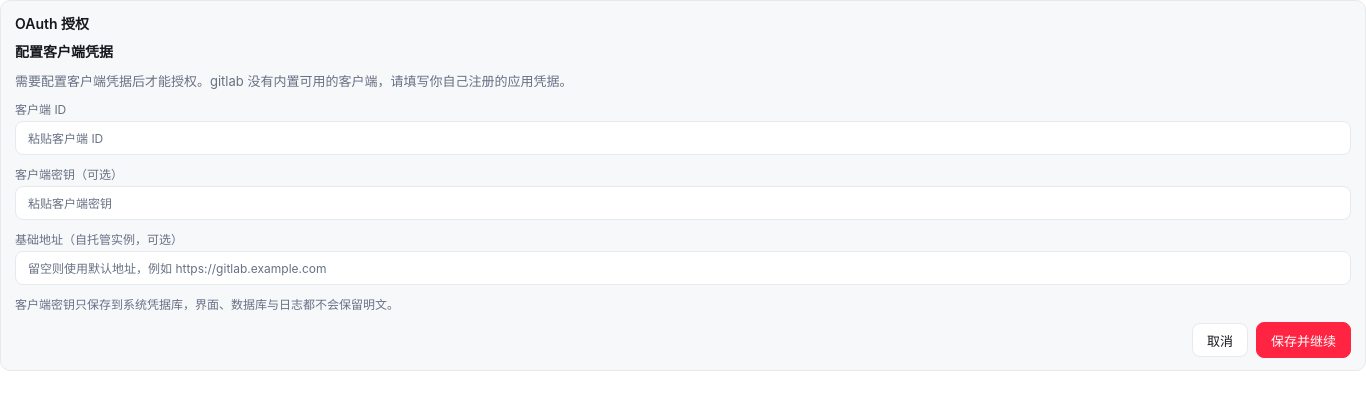
Test: OAuthPanel：配置客户端凭据 › 提交失败：显示映射文案，不回显原始文本，密钥输入框保持为空
Type "cid" into the field named "客户端 ID".
click(683, 138); type("cid")  # box [15, 121, 1351, 155]
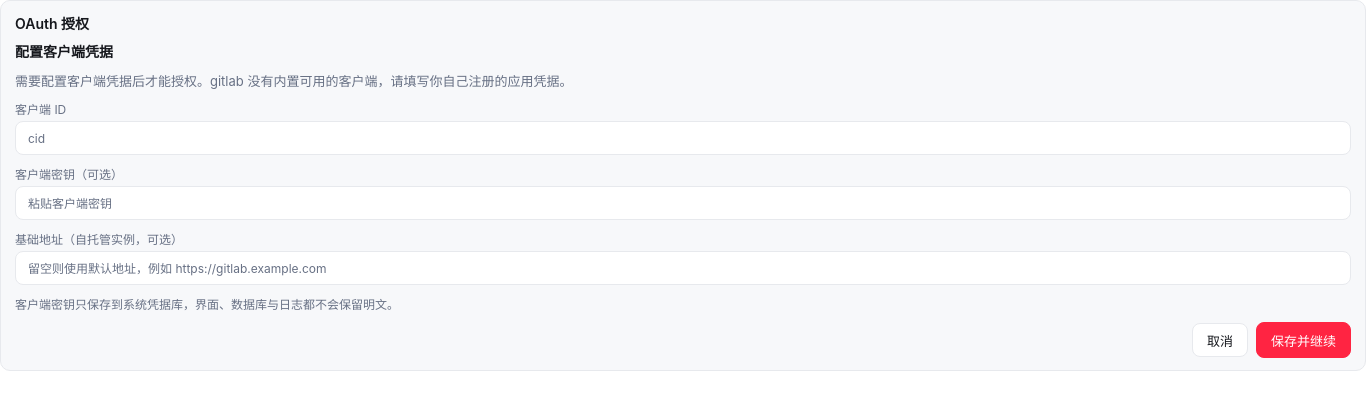
Type "GOCSPX-super-secret-value-123" into the password field named "客户端密钥".
click(683, 203); type("GOCSPX-super-secret-value-123")  # box [15, 186, 1351, 220]
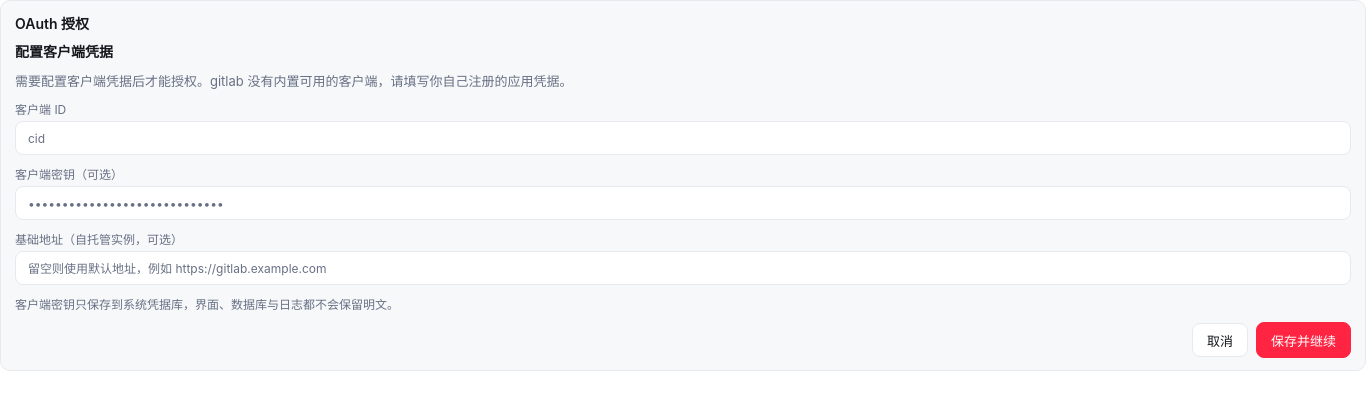
Submit the form
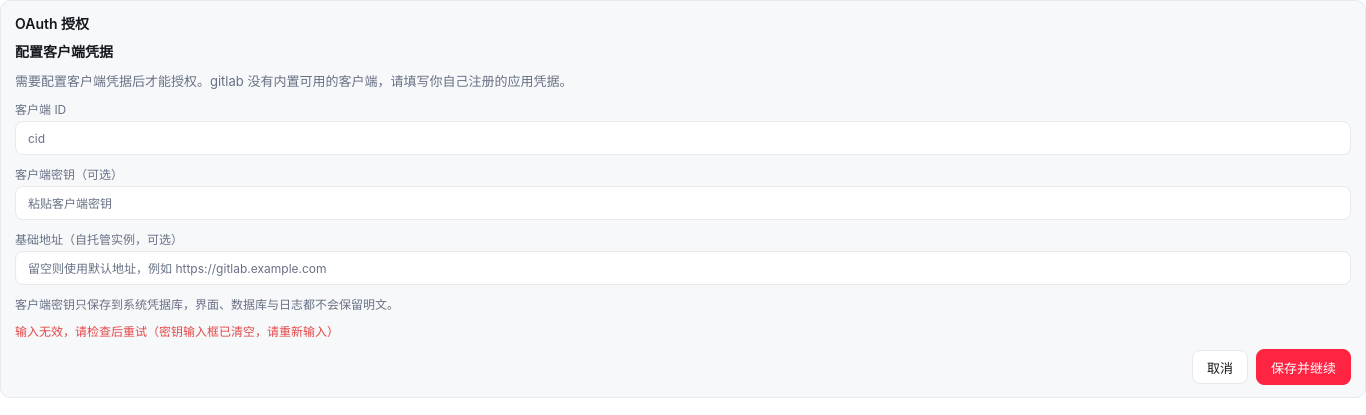
Check: the message "输入无效，请检查后重试（密钥输入框已清空，请重新输入）" is shown, box [15, 324, 339, 339]
Check: the password field named "客户端密钥" is empty, box [15, 186, 1351, 220]
